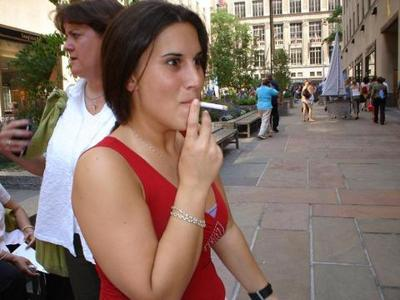person: (68, 1, 281, 300)
